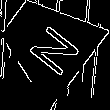N_NW: (15, 13, 78, 75)
